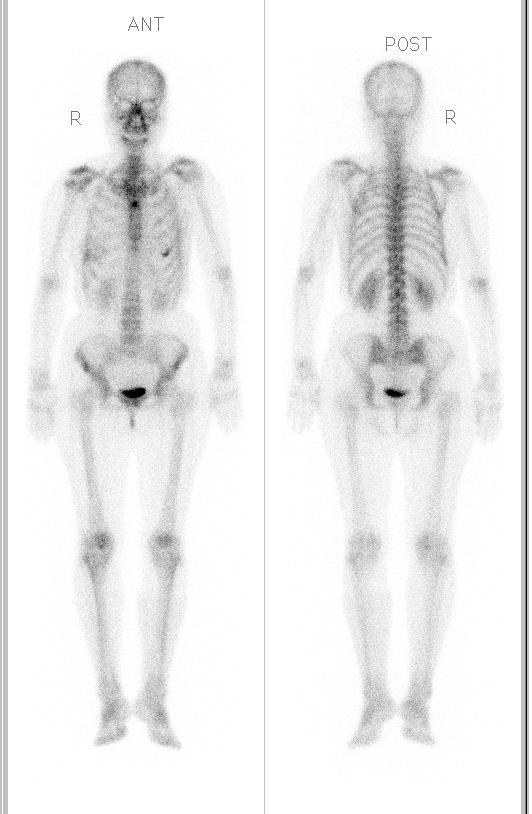person: (8, 1, 521, 814)
